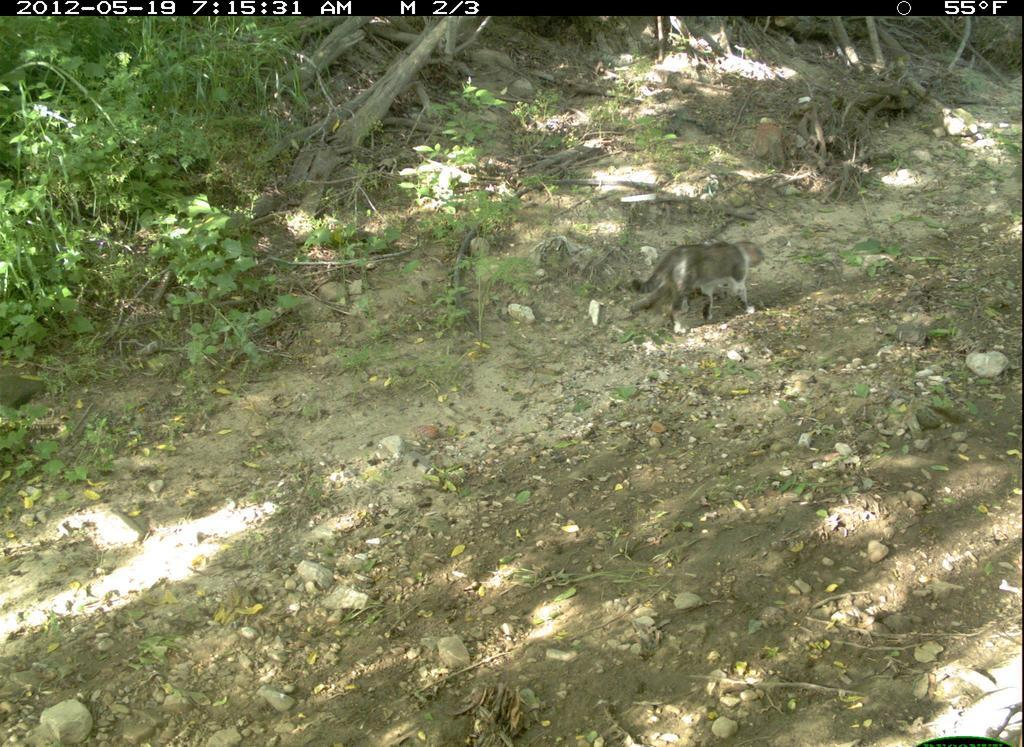cat: (622, 231, 773, 344)
